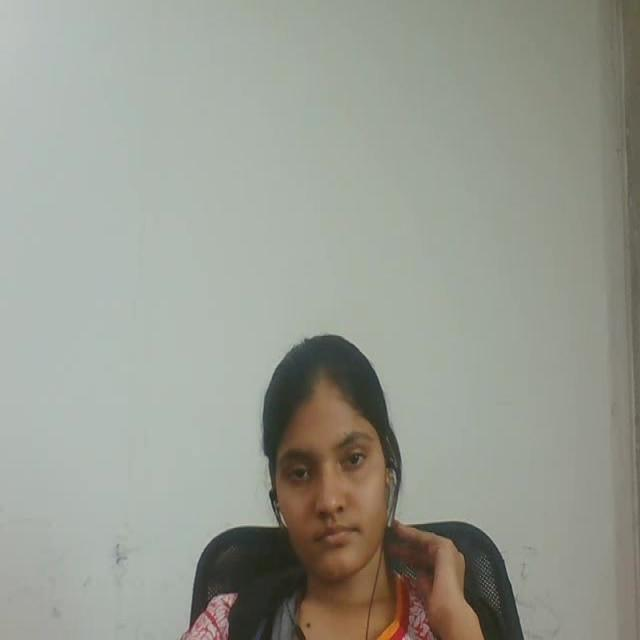Engaged: (239, 305, 430, 607)
